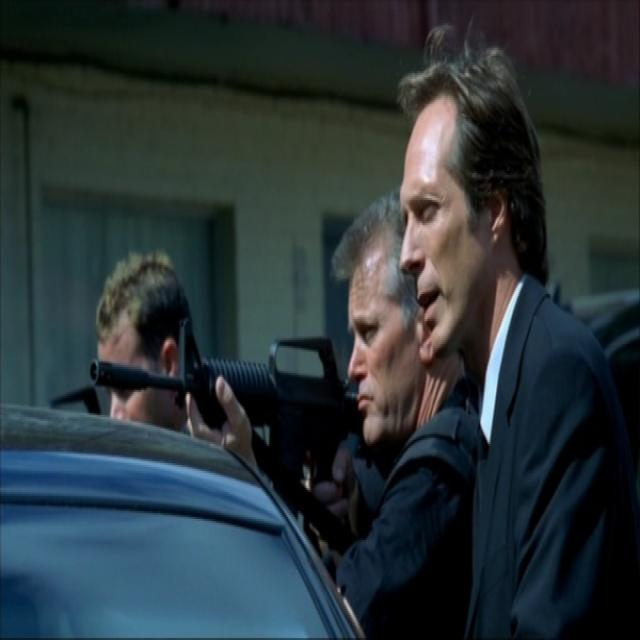rifle: (87, 317, 368, 513)
